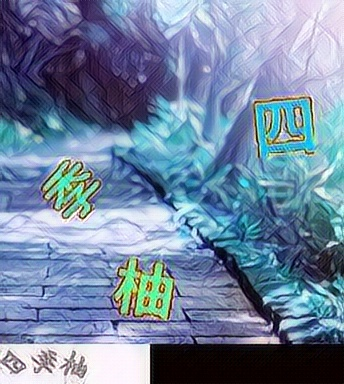BCBE: (38, 155, 103, 220)
CBC4: (251, 93, 316, 158)
E8D6: (109, 255, 174, 320)
